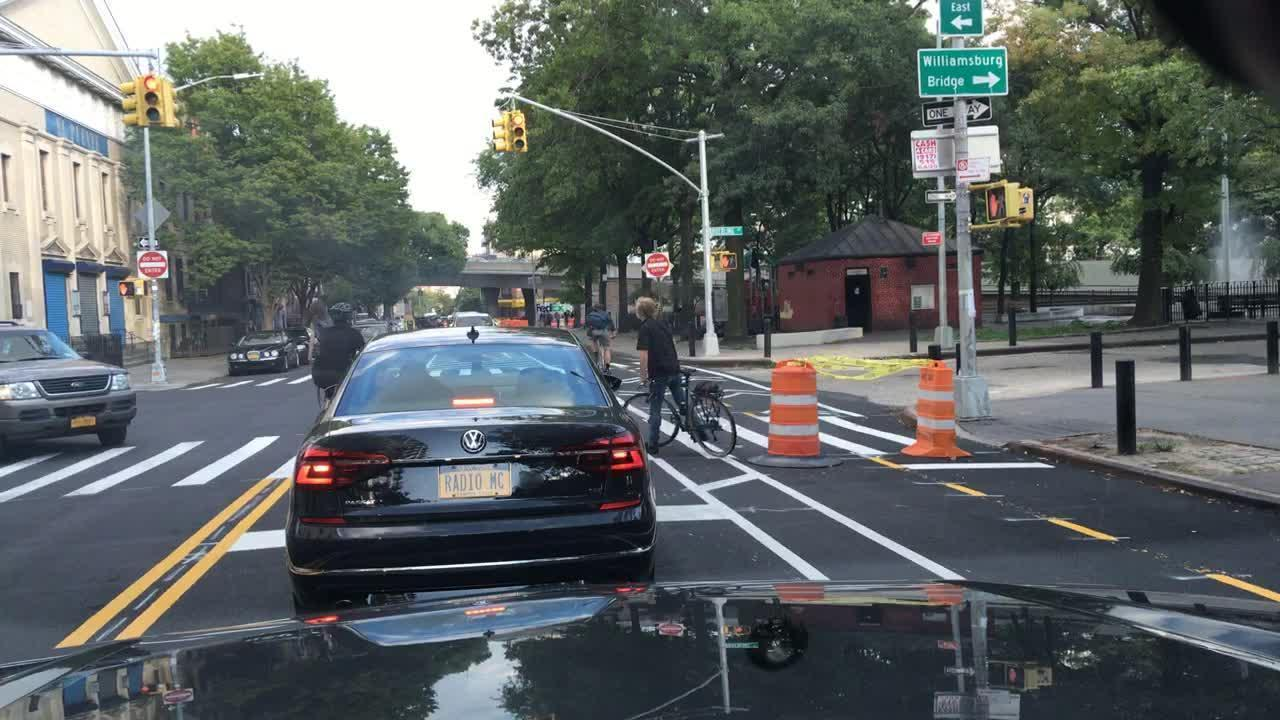Volkswagen: (458, 422, 491, 459)
